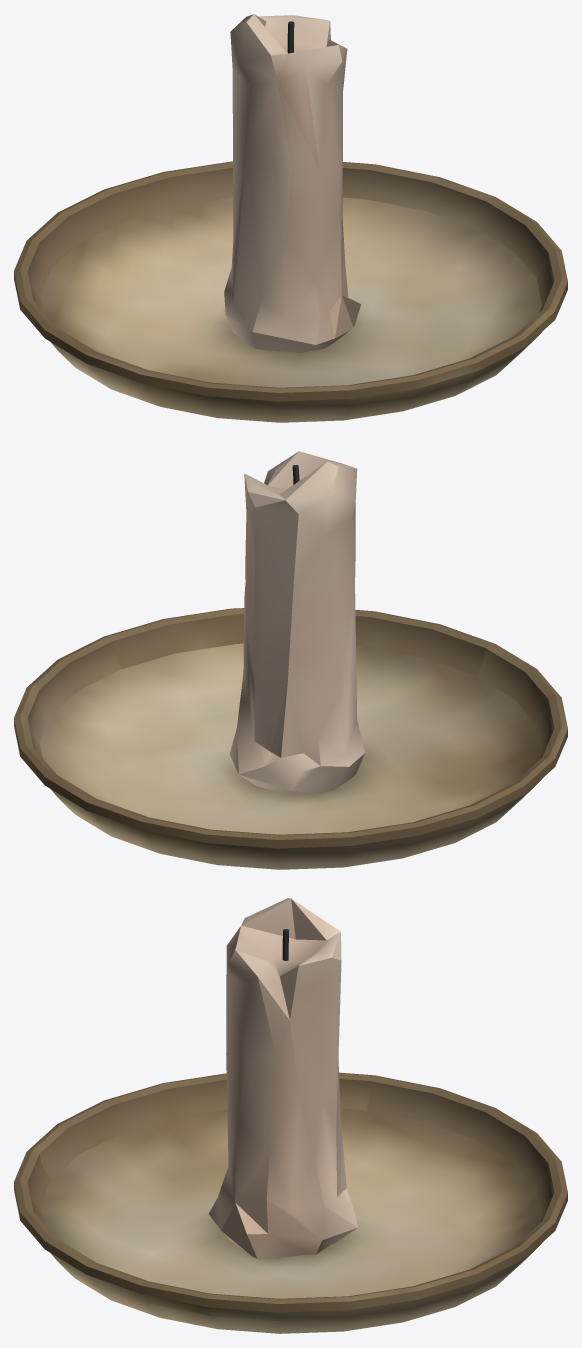
File: candle-dish.glb
The picture shows the model from 3 angles, top to bottom: view 1: azimuth 30°, elevation 25°; view 2: azimuth 150°, elevation 25°; view 3: azimuth 270°, elevation 25°; orthographic projection.
Parts seen in each view (by area): view 1: candle-dish; view 2: candle-dish; view 3: candle-dish.
Boxes of the visible parts, x1,y1,x2,y2 form: candle-dish: (14, 14, 567, 422); candle-dish: (14, 451, 567, 869); candle-dish: (14, 898, 567, 1333).
Size of the model in its own units: 0.1059 by 0.0723 by 0.1059.
1 material, 1 textured.
